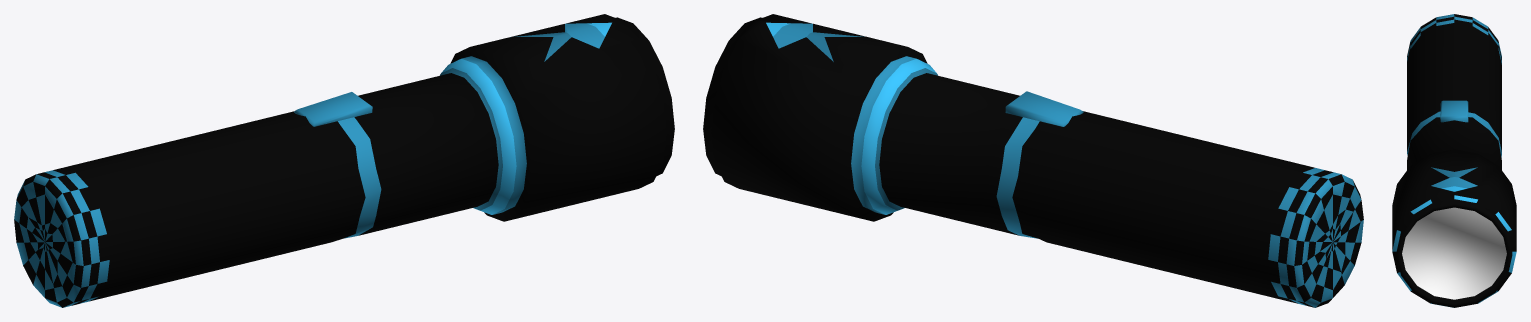
File: Flashlight.fbx
3 renders of one model, left to right at view 1: azimuth 30°, elevation 25°; view 2: azimuth 150°, elevation 25°; view 3: azimuth 270°, elevation 25°, orthographic. The views are drawn at different scales.
Visible parts, largest first — view 1: flashlight; view 2: flashlight; view 3: flashlight.
Boxes of the visible parts, x1=… form: flashlight: x1=14, y1=14, x2=674, y2=307; flashlight: x1=703, y1=14, x2=1363, y2=307; flashlight: x1=1392, y1=14, x2=1516, y2=307.
Size of the model in its own units: 0.1247 by 0.0328 by 0.0328.
